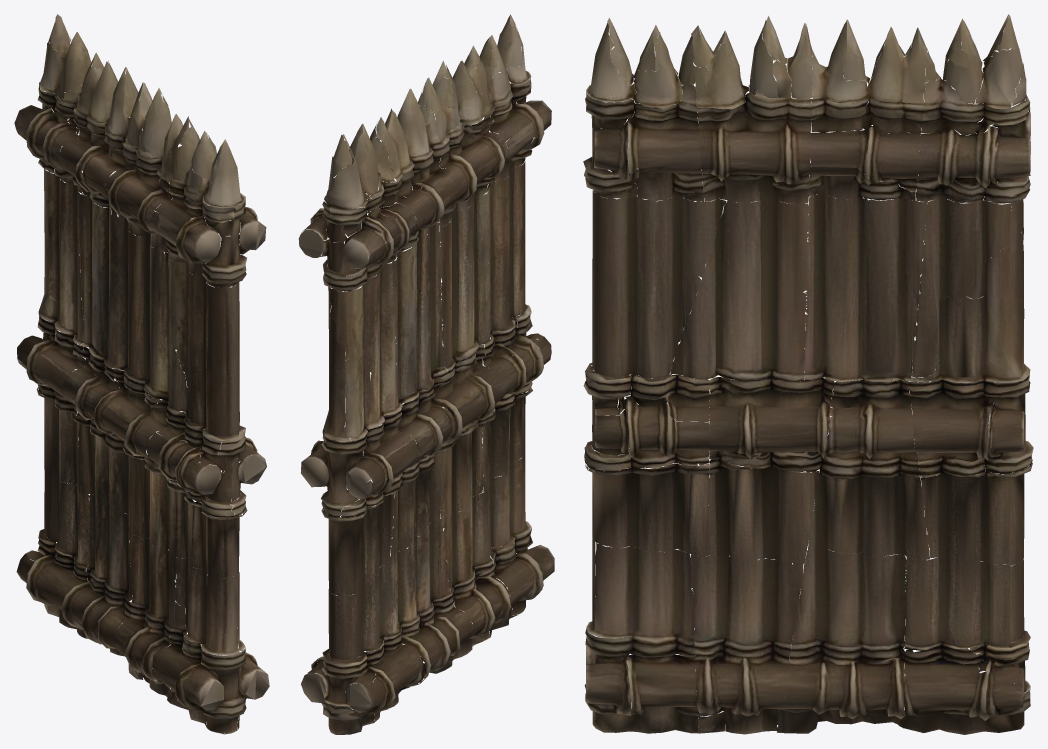
The model's file is empalizada.glb.
The picture shows the model from 3 angles, left to right: view 1: azimuth 30°, elevation 25°; view 2: azimuth 150°, elevation 25°; view 3: azimuth 270°, elevation 25°; orthographic projection. The views are drawn at different scales.
Parts seen in each view (by area): view 1: tripo_node_4144454e-f856-4e5e-ad73-b4ba118b7f19; view 2: tripo_node_4144454e-f856-4e5e-ad73-b4ba118b7f19; view 3: tripo_node_4144454e-f856-4e5e-ad73-b4ba118b7f19.
Part boxes in pixels (left/top/right/bottom): tripo_node_4144454e-f856-4e5e-ad73-b4ba118b7f19: left=14, top=14, right=269, bottom=734; tripo_node_4144454e-f856-4e5e-ad73-b4ba118b7f19: left=298, top=14, right=554, bottom=734; tripo_node_4144454e-f856-4e5e-ad73-b4ba118b7f19: left=583, top=14, right=1033, bottom=734.
Bounding box in the file's own units: 0.1508 × 0.9994 × 0.5735.
1 material, 1 textured.
